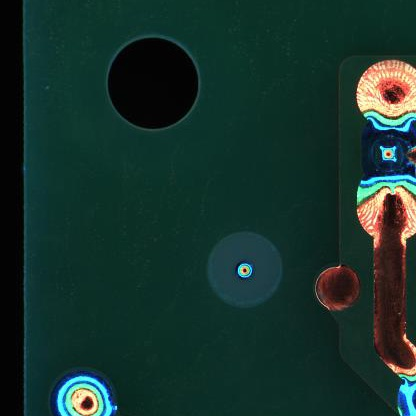spot: (361, 115, 416, 181), (53, 370, 115, 416)
